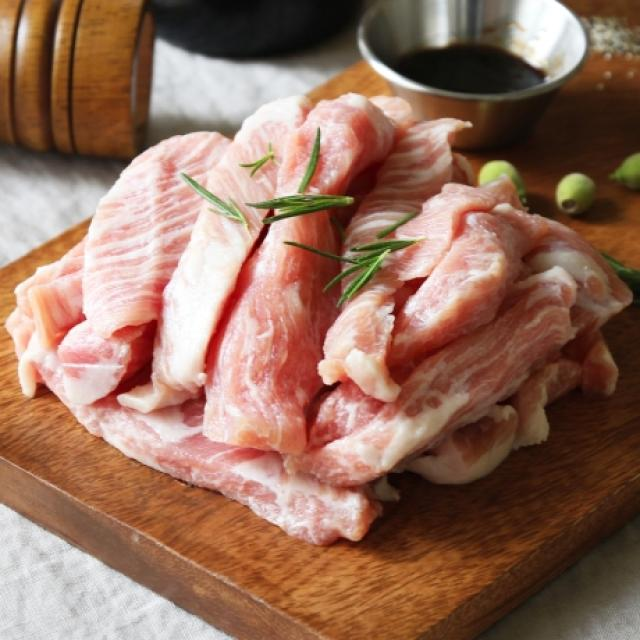pork: (22, 93, 629, 543)
